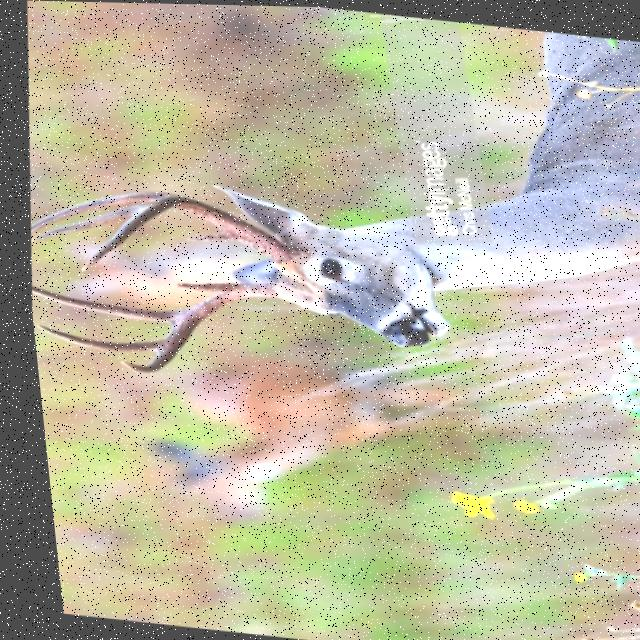L-F: (74, 192, 296, 270)
L-G1: (180, 228, 234, 239)
L-G2: (25, 189, 170, 232)
R-F: (112, 281, 275, 371)
R-G1: (170, 279, 235, 290)
R-G2: (25, 284, 175, 323)
R-G3: (28, 323, 154, 350)
